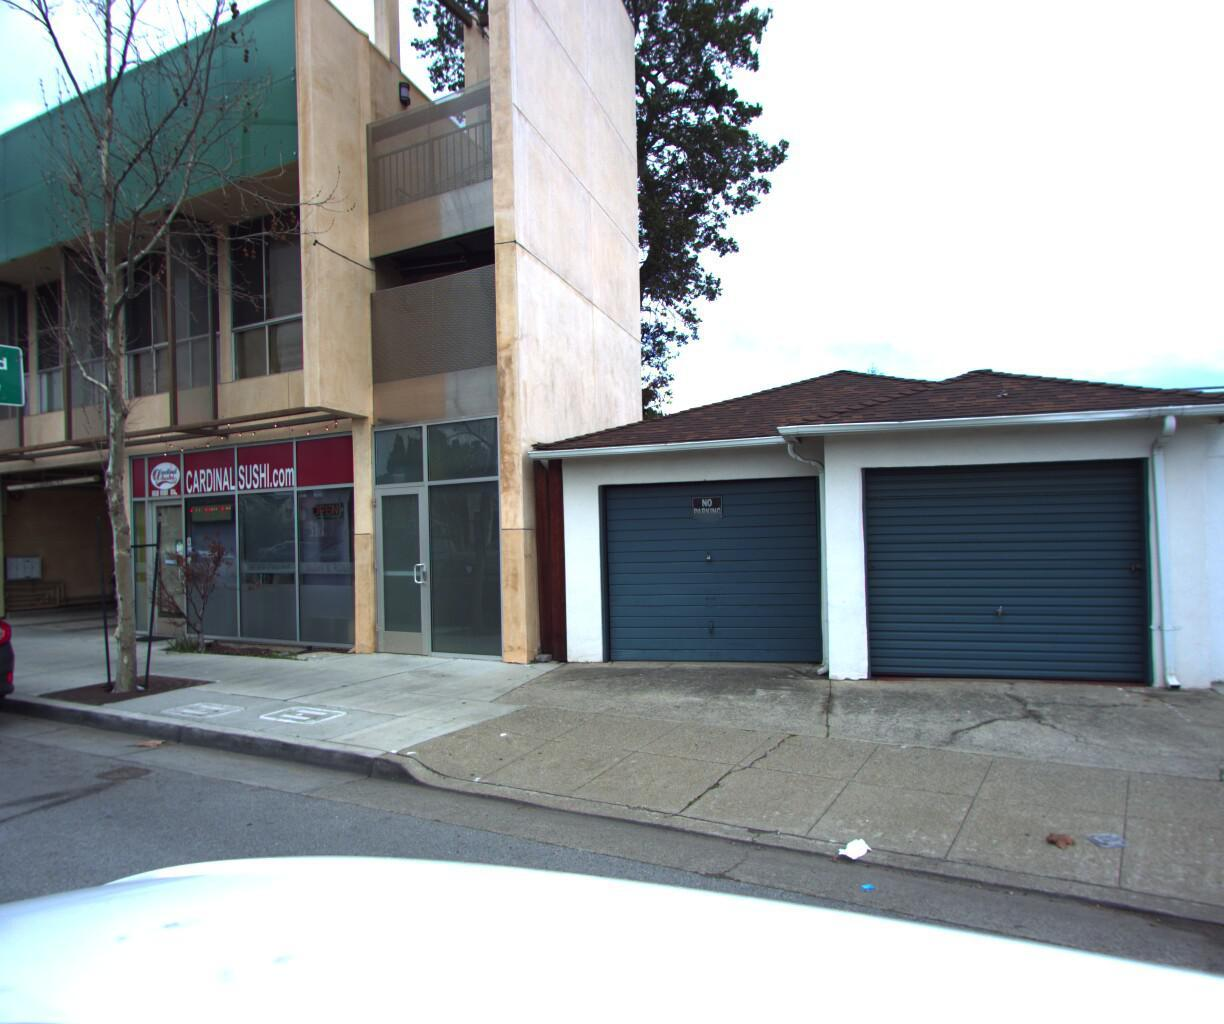car: (0, 559, 45, 792)
